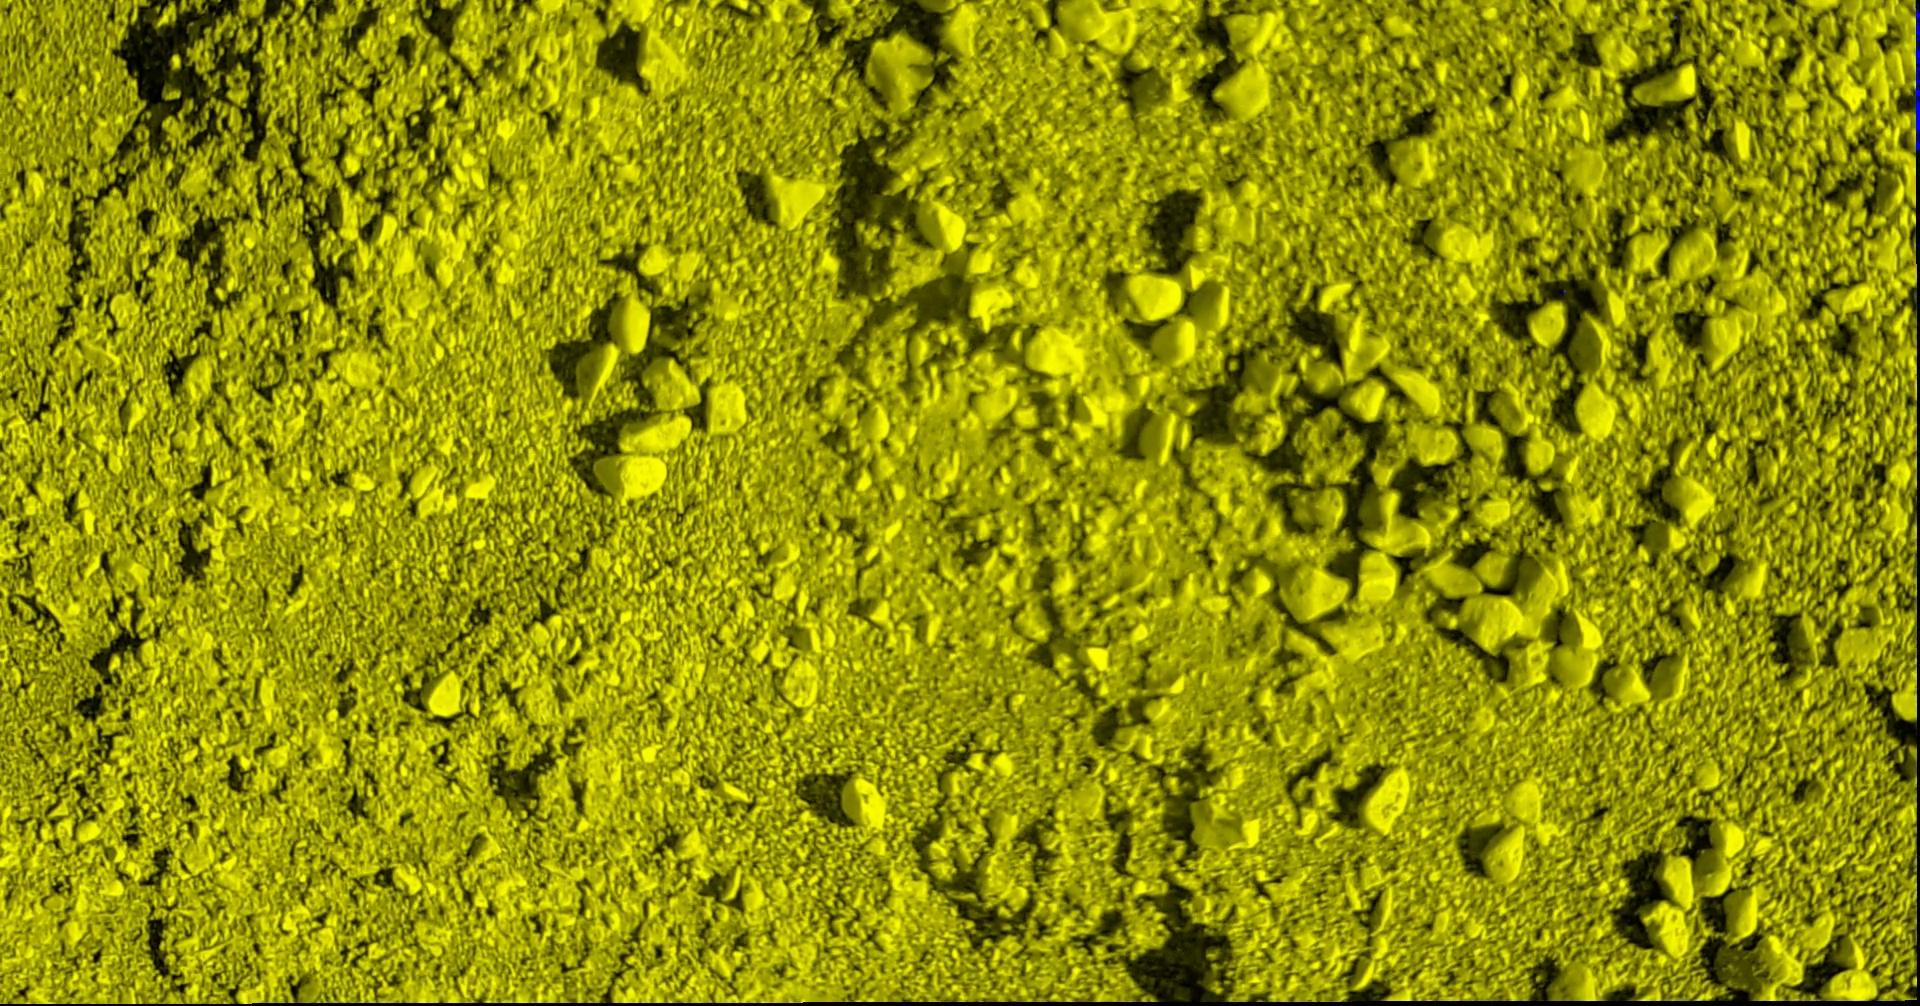ant: (1912, 3, 1920, 151)
